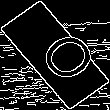O_SW: (19, 22, 91, 88)
